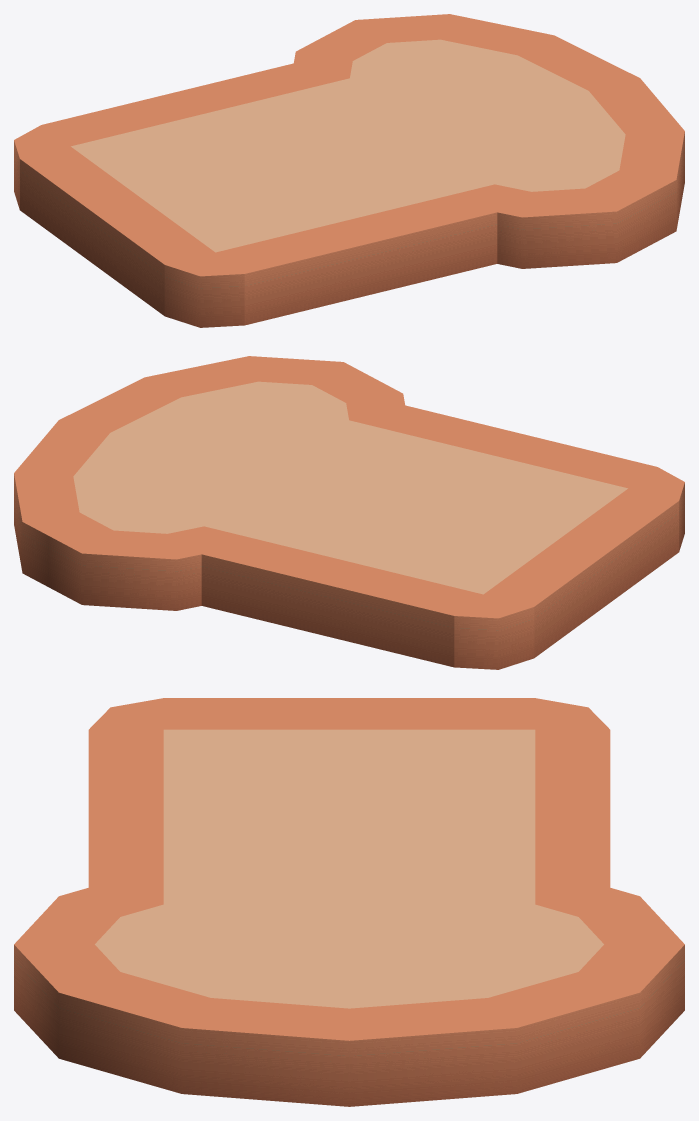
Rendered from bread.glb.
The picture shows the model from 3 angles, top to bottom: view 1: azimuth 30°, elevation 25°; view 2: azimuth 150°, elevation 25°; view 3: azimuth 270°, elevation 25°; orthographic projection. The views are drawn at different scales.
Parts seen in each view (by area): view 1: bread; view 2: bread; view 3: bread.
Part boxes in pixels (left/top/right/bottom): bread: left=14, top=14, right=684, bottom=327; bread: left=14, top=356, right=684, bottom=669; bread: left=14, top=698, right=684, bottom=1106.
Size of the model in its own units: 0.4423 by 0.0397 by 0.3659.
1 material, 1 textured.
